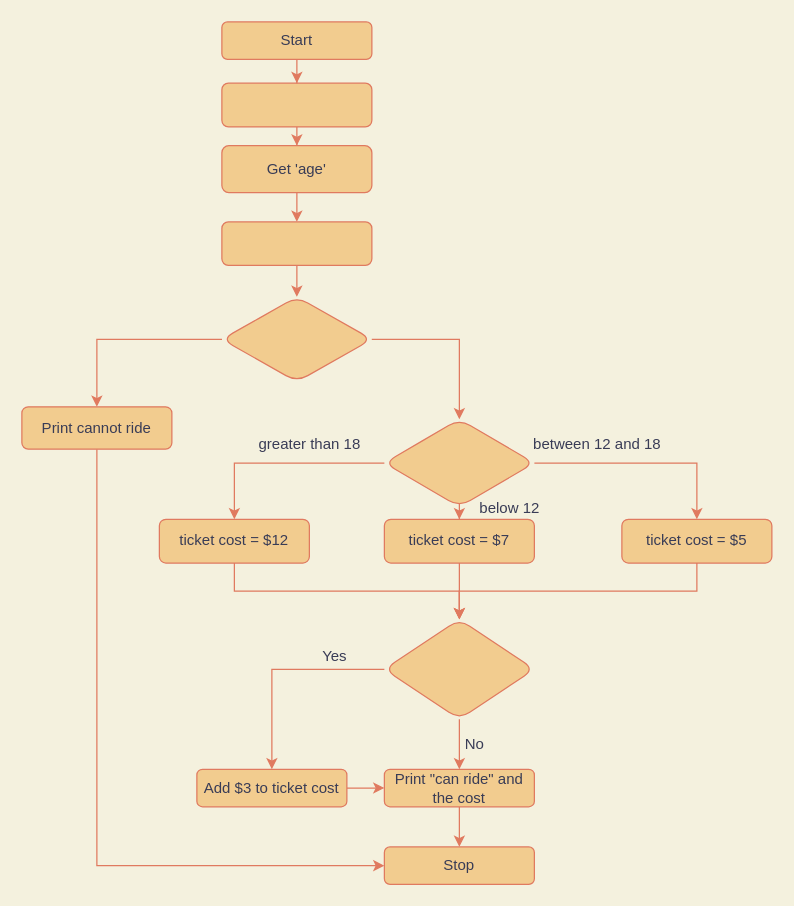
Some shapes in this 794 by 906 pixel diagram are drawn without their labels. The centre of each missing label's shape, as x and y in pixels:
"age" belongs at (458,462).
"Get 'height'" belongs at (296,243).
"Get 'name'" belongs at (296,104).
"height <= 120 cm?" belongs at (296,339).
"Need photograph?" belongs at (458,668).
